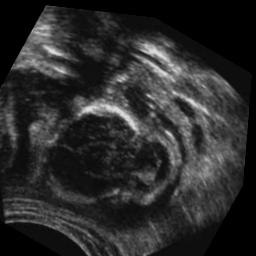abnormal: (25, 70, 198, 241)
